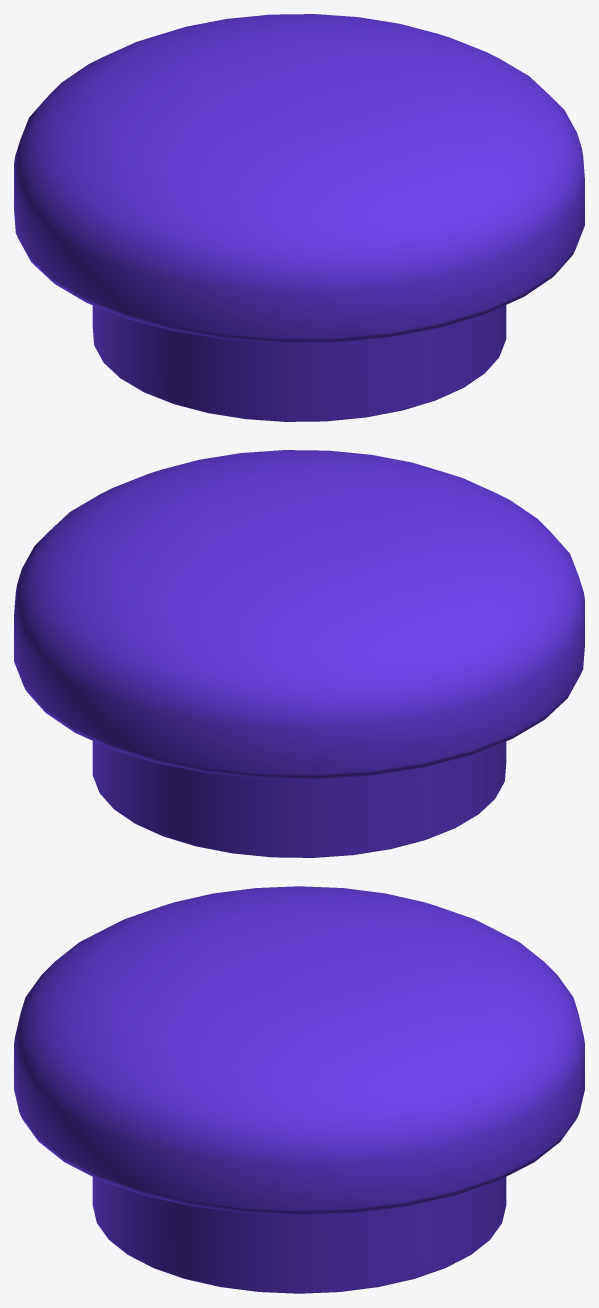
File: kepala biru button.fbx
3 renders of one model, top to bottom at view 1: azimuth 30°, elevation 25°; view 2: azimuth 150°, elevation 25°; view 3: azimuth 270°, elevation 25°, orthographic.
Visible parts, largest first — view 1: Red pannic button.001; view 2: Red pannic button.001; view 3: Red pannic button.001.
Boxes of the visible parts, bbox=[...] form: Red pannic button.001: bbox=[14, 14, 584, 421]; Red pannic button.001: bbox=[14, 450, 584, 857]; Red pannic button.001: bbox=[14, 886, 584, 1293].
Bounding box in the file's own units: 56.94 × 28.42 × 56.94.
